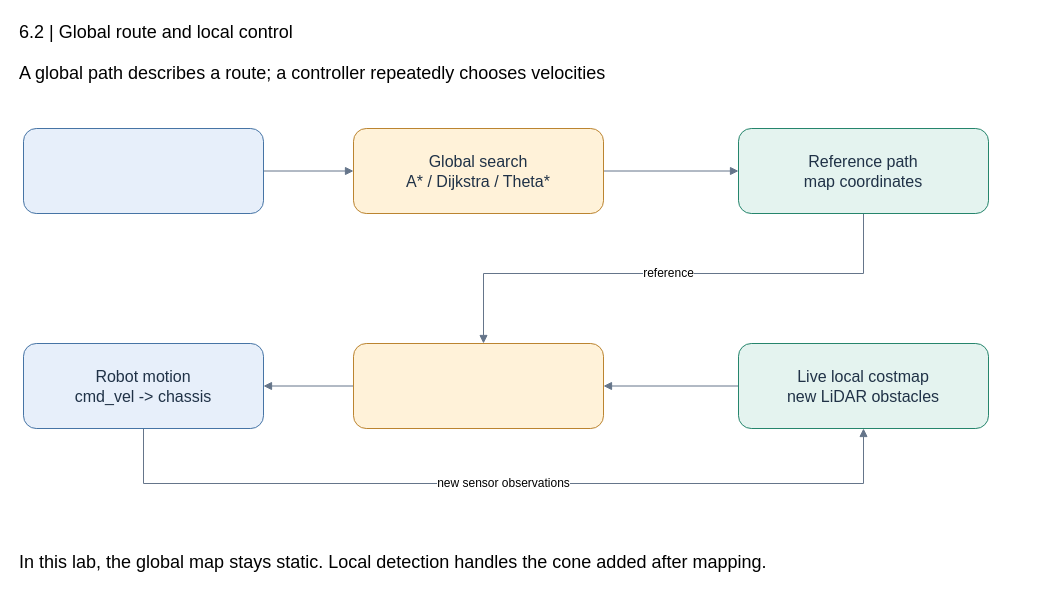
Some shapes in this 1064 by 594 pixel diagram are drawn without their labels. The shapes that lost their labels are listed below. From the top down, each one's centre as x and y in pixels, then its label:
the point at 143,171: Goal + saved map known walls / shelves
the point at 478,385: Local controller sample / score / execute
